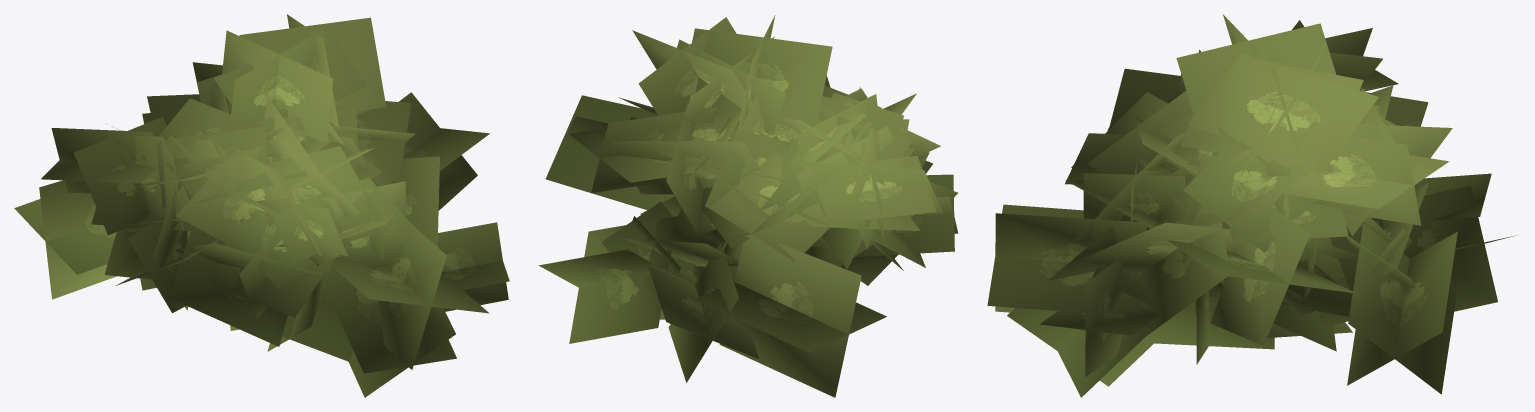
Rendered from mezquite-muybajo.glb.
3 renders of one model, left to right at view 1: azimuth 30°, elevation 25°; view 2: azimuth 150°, elevation 25°; view 3: azimuth 270°, elevation 25°, orthographic. The views are drawn at different scales.
Visible parts, largest first — view 1: mezquite; view 2: mezquite; view 3: mezquite.
Boxes of the visible parts, <box> form: mezquite: <box>14,14,509,397</box>; mezquite: <box>538,15,958,397</box>; mezquite: <box>987,14,1516,397</box>.
Size of the model in its own units: 11.86 by 8.56 by 12.04.
2 materials, 1 textured.
